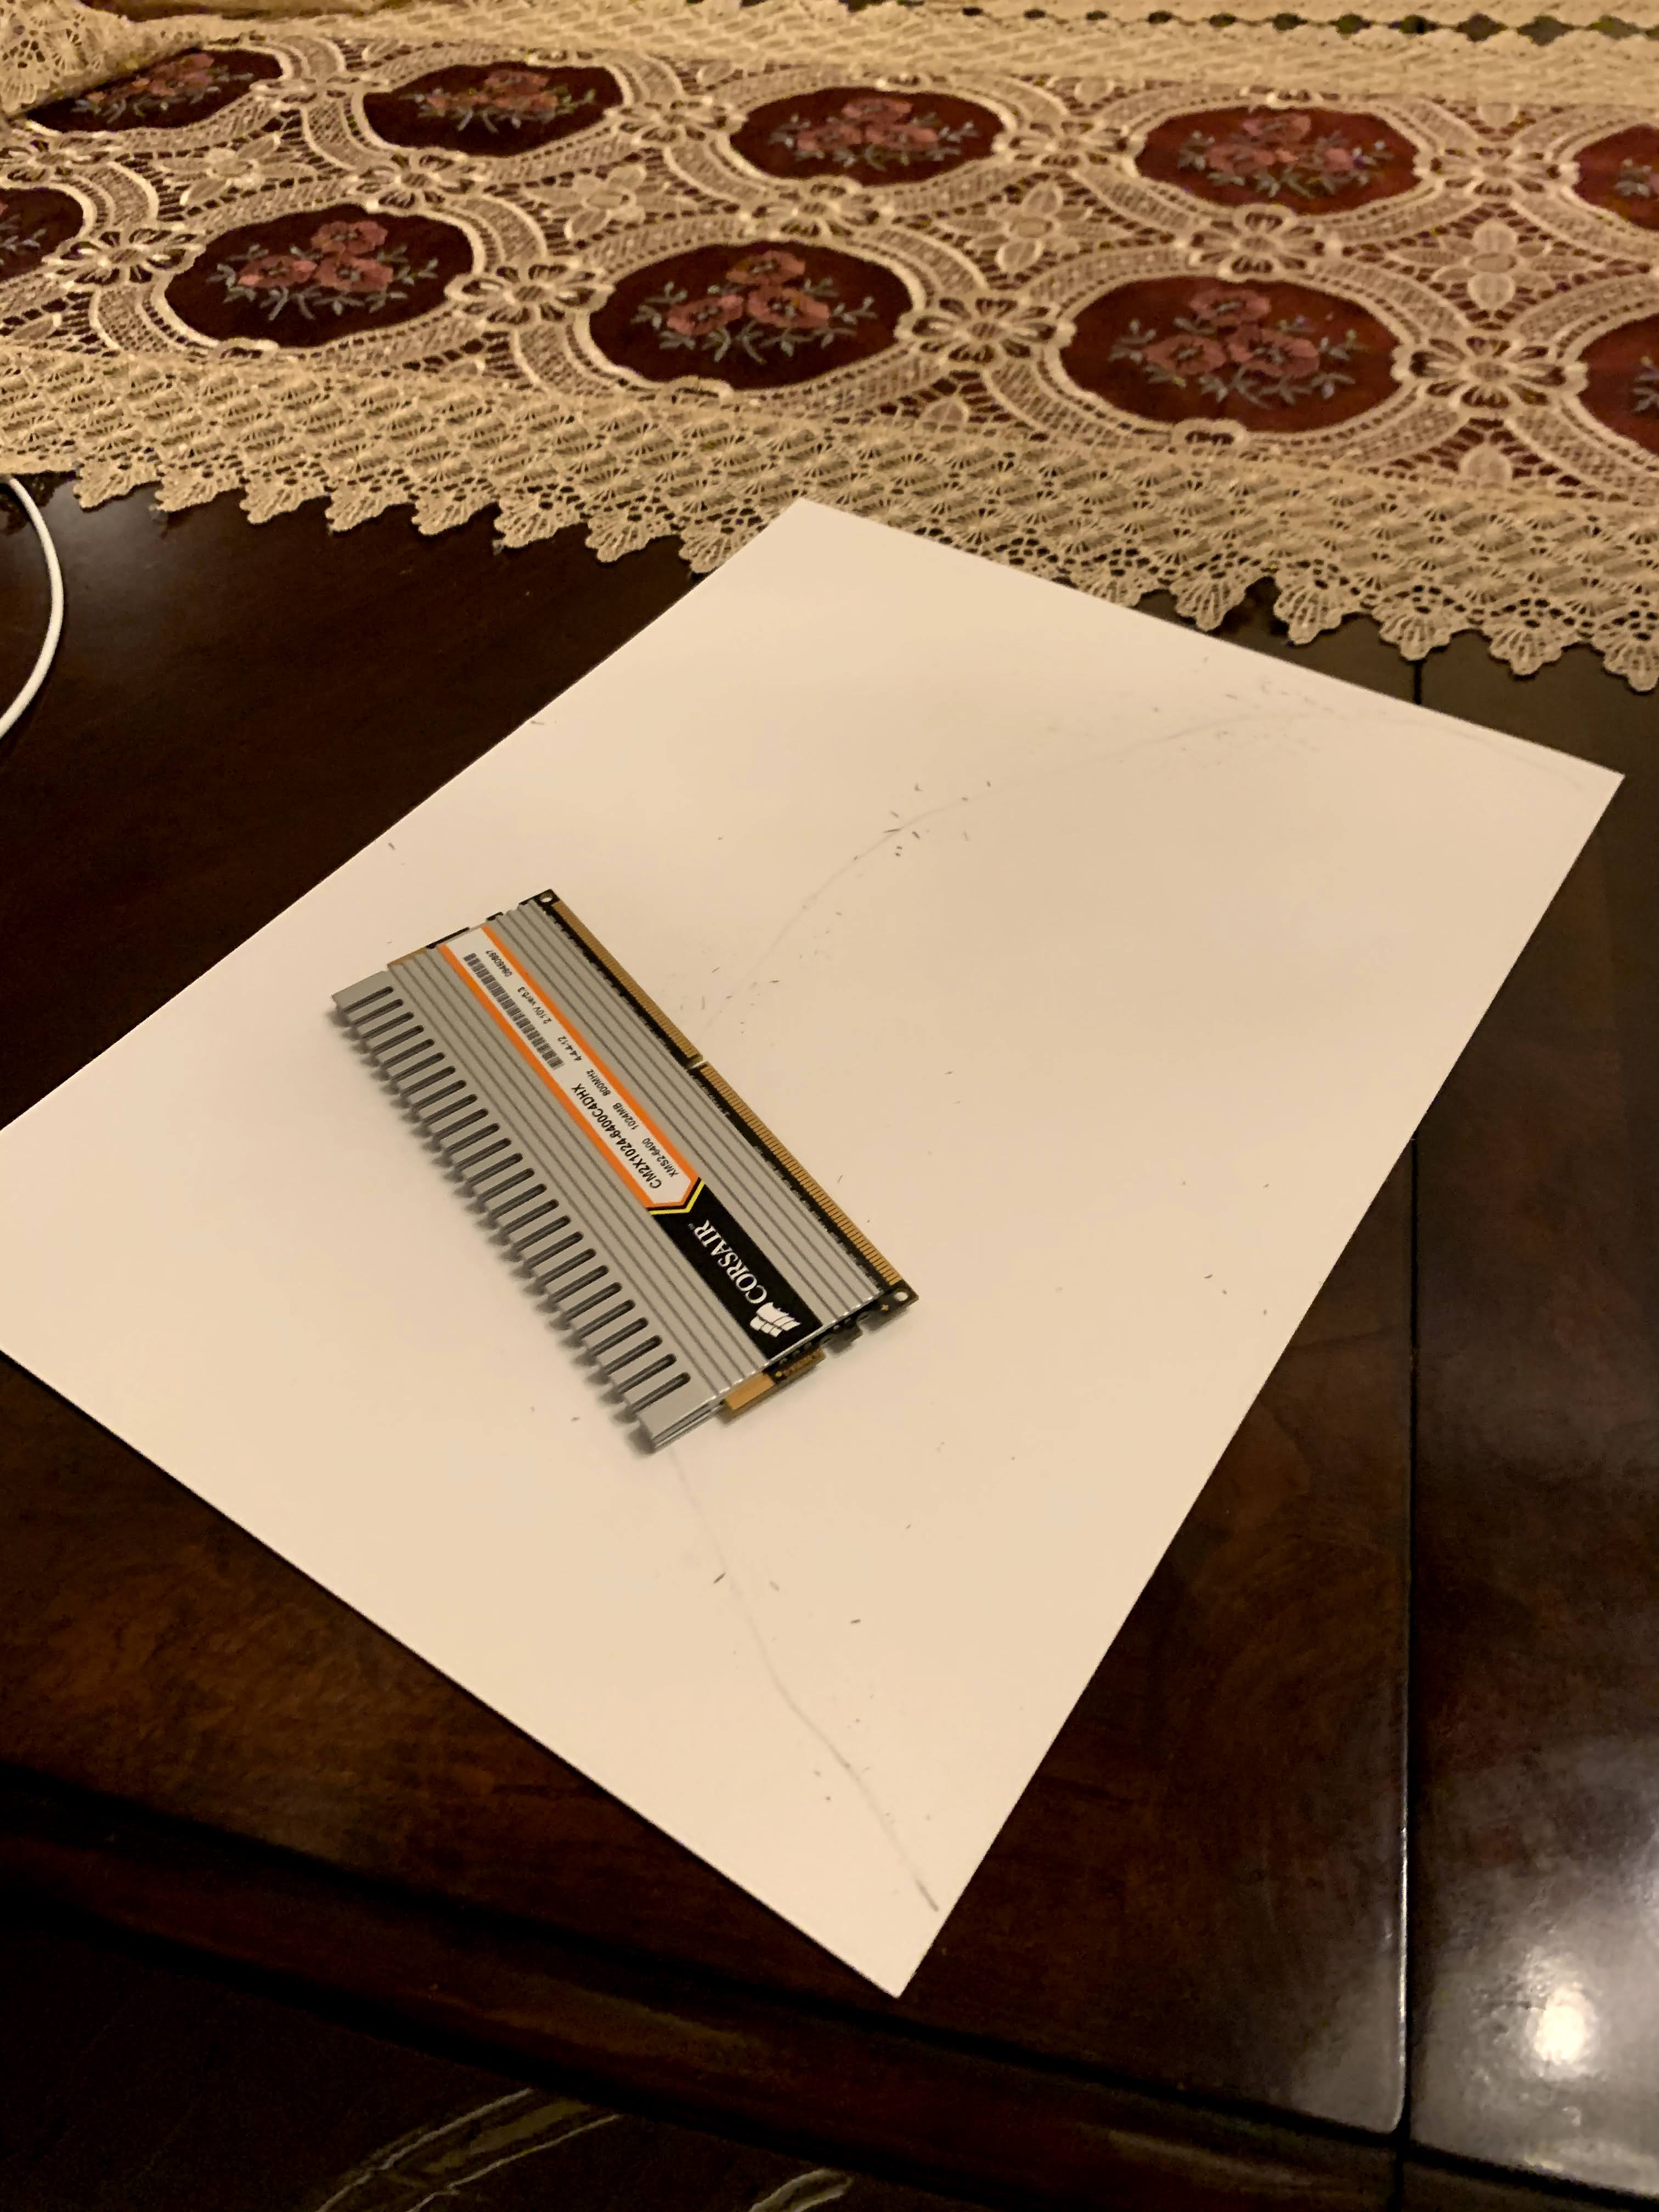Space-debris-medium: (301, 885, 983, 1454)
